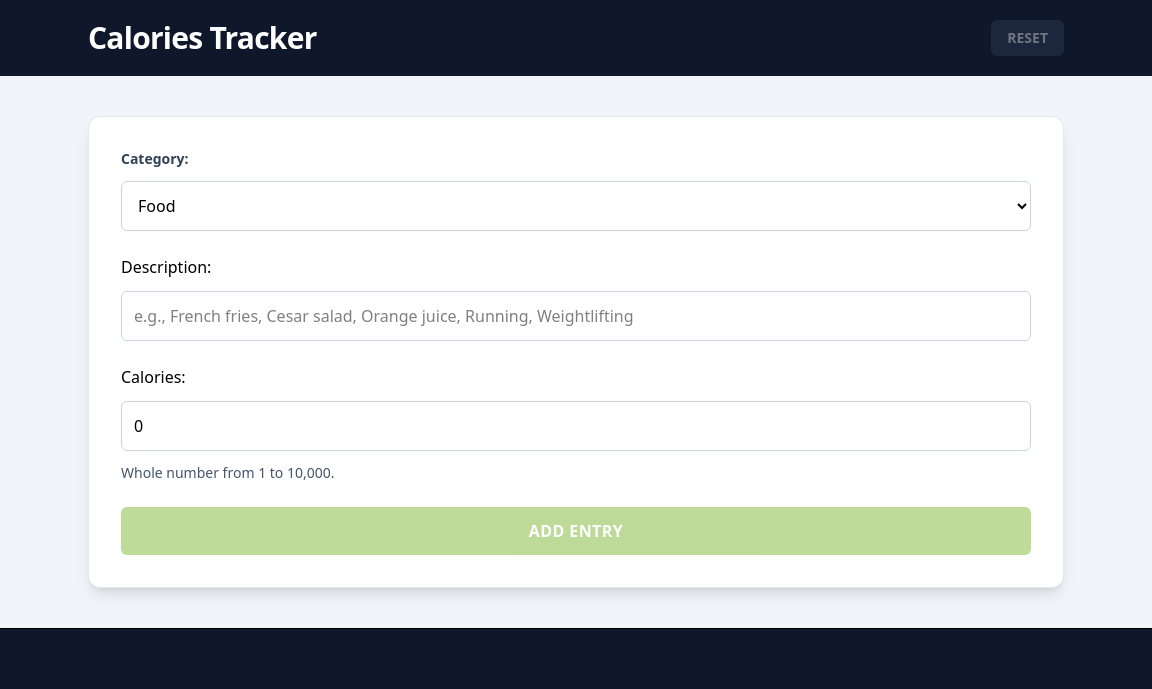
Test: App › resets the whole list
Type "Pasta" into the field labelled "Description:" at (576, 316), box x1=121 y1=291 x2=1031 y2=341
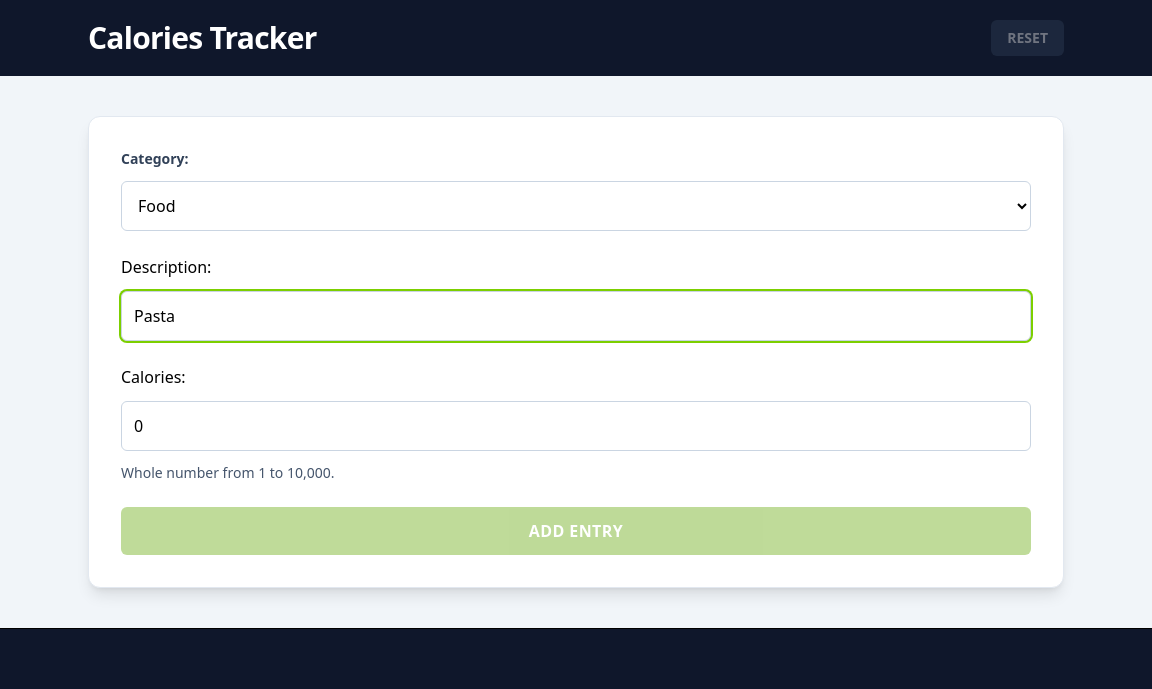
Replace the text in the number field labelled "Calories:" with "800" at (576, 426), box x1=121 y1=401 x2=1031 y2=451
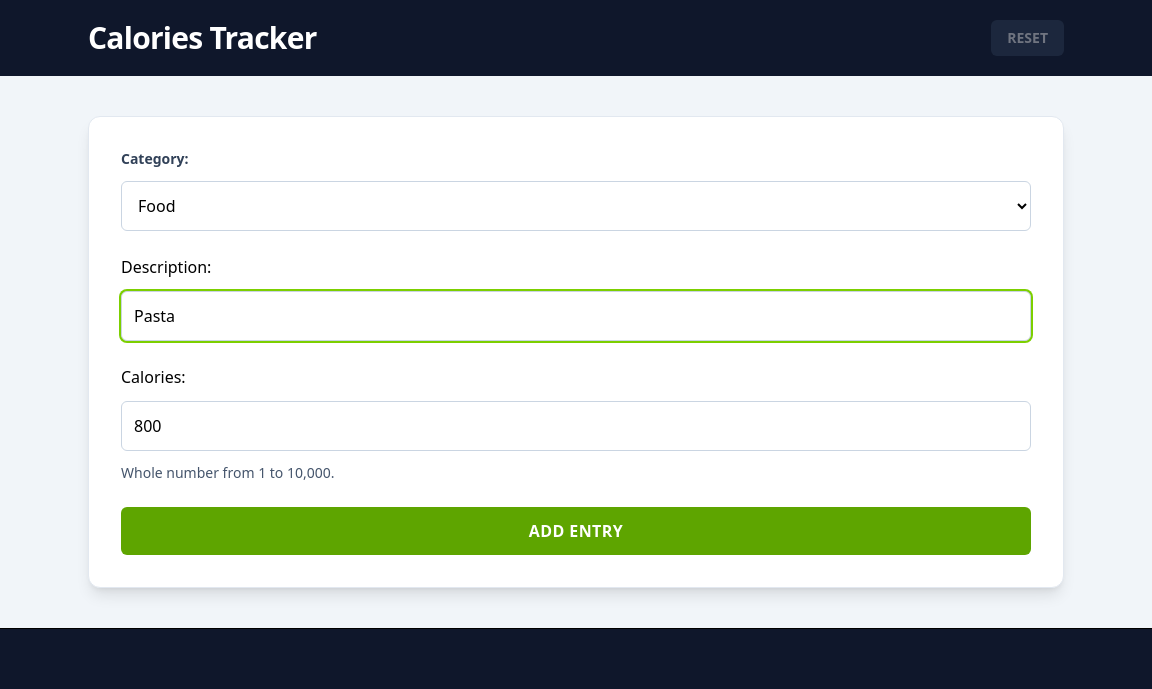
Click the button "Add Entry" at (576, 531), box x1=121 y1=507 x2=1031 y2=555
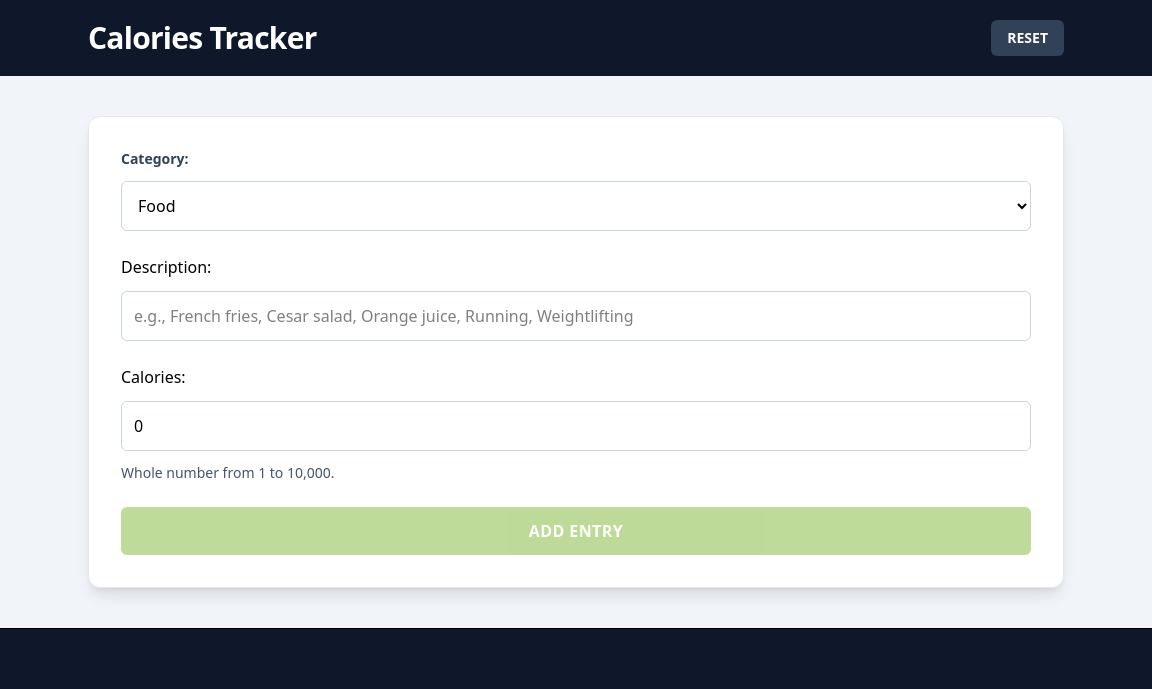
Click the button "Reset" at (1028, 38), box x1=991 y1=20 x2=1064 y2=56
(page scrolled)
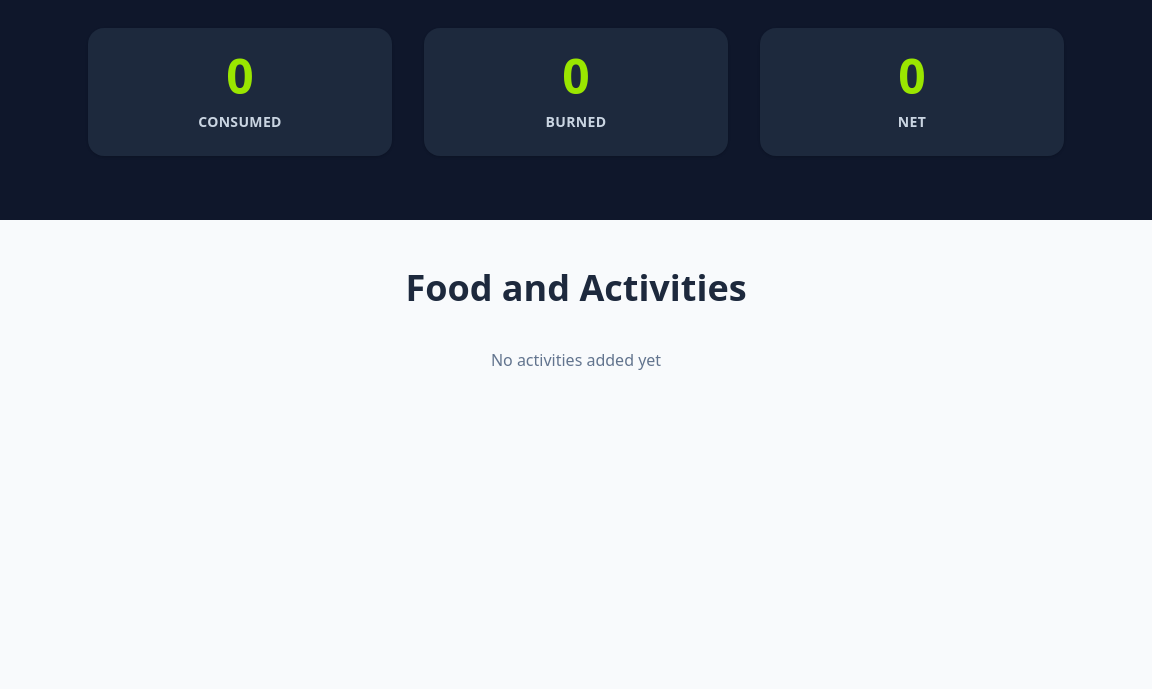
Now the text "No activities added yet" is shown, box x1=491 y1=349 x2=661 y2=371
